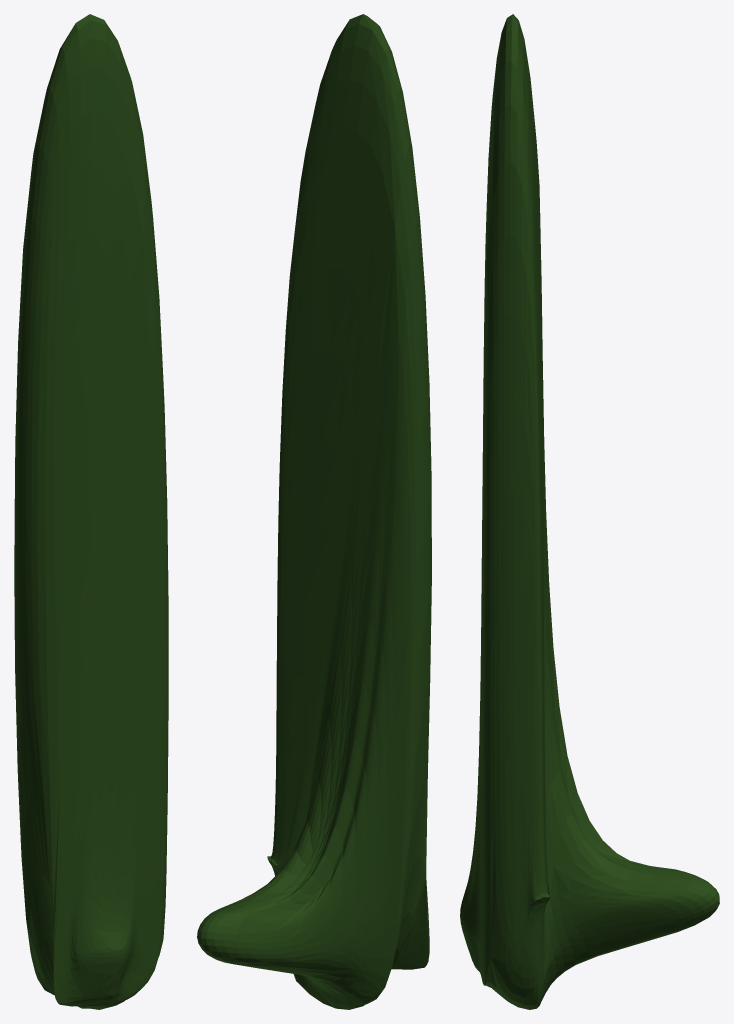
The picture shows the model from 3 angles, left to right: view 1: azimuth 30°, elevation 25°; view 2: azimuth 150°, elevation 25°; view 3: azimuth 270°, elevation 25°; orthographic projection. The views are drawn at different scales.
Visible parts, largest first — view 1: 587_Cube.2362; view 2: 587_Cube.2362; view 3: 587_Cube.2362.
Part boxes in pixels (x1,y1,x2,y2): 587_Cube.2362: (14, 14, 168, 1009); 587_Cube.2362: (197, 14, 431, 1009); 587_Cube.2362: (460, 14, 719, 1009).
Bounding box in the file's own units: 1.73 × 11.09 × 2.66.
